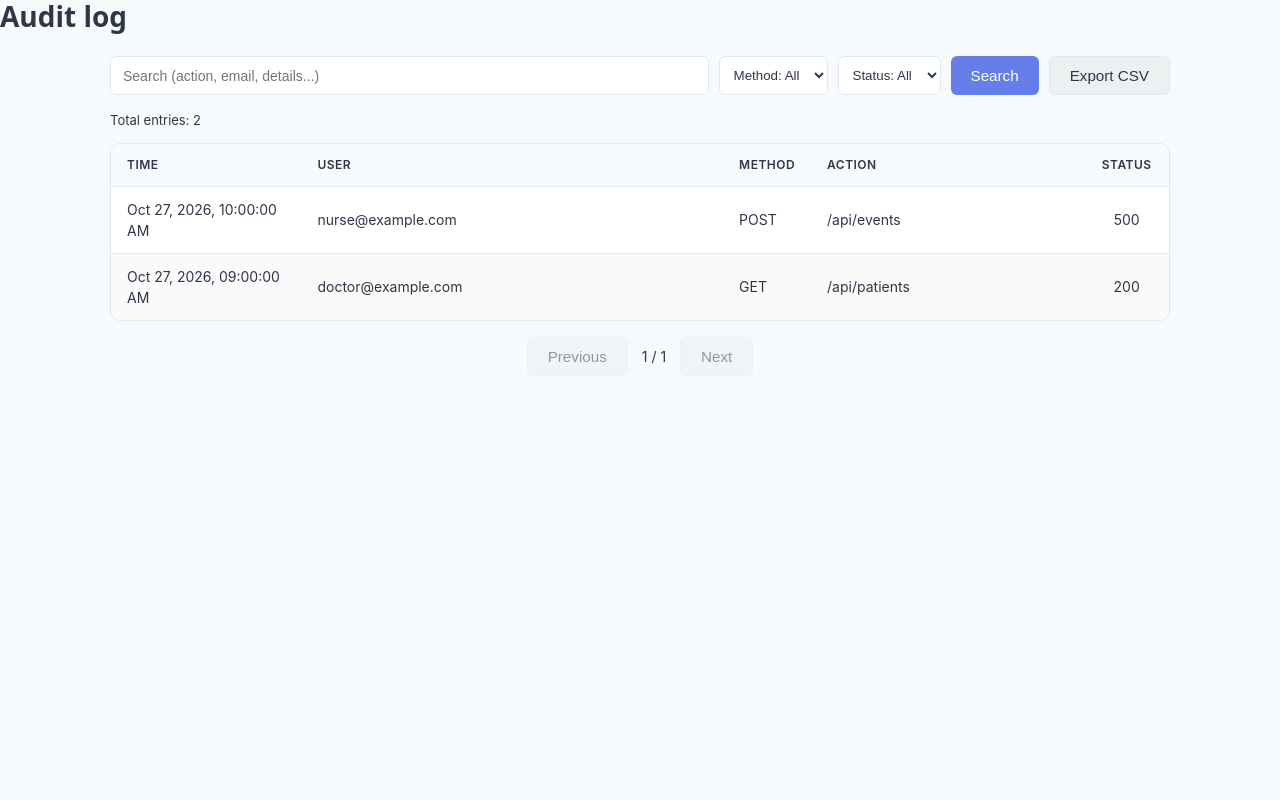
ActivityLogPage › detail modal closes via its close button
Check: the text "/api/patients" is shown, box [811,253,1084,320]
Click the text "doctor@example.com".
click(512, 286)  # box [301,253,723,320]
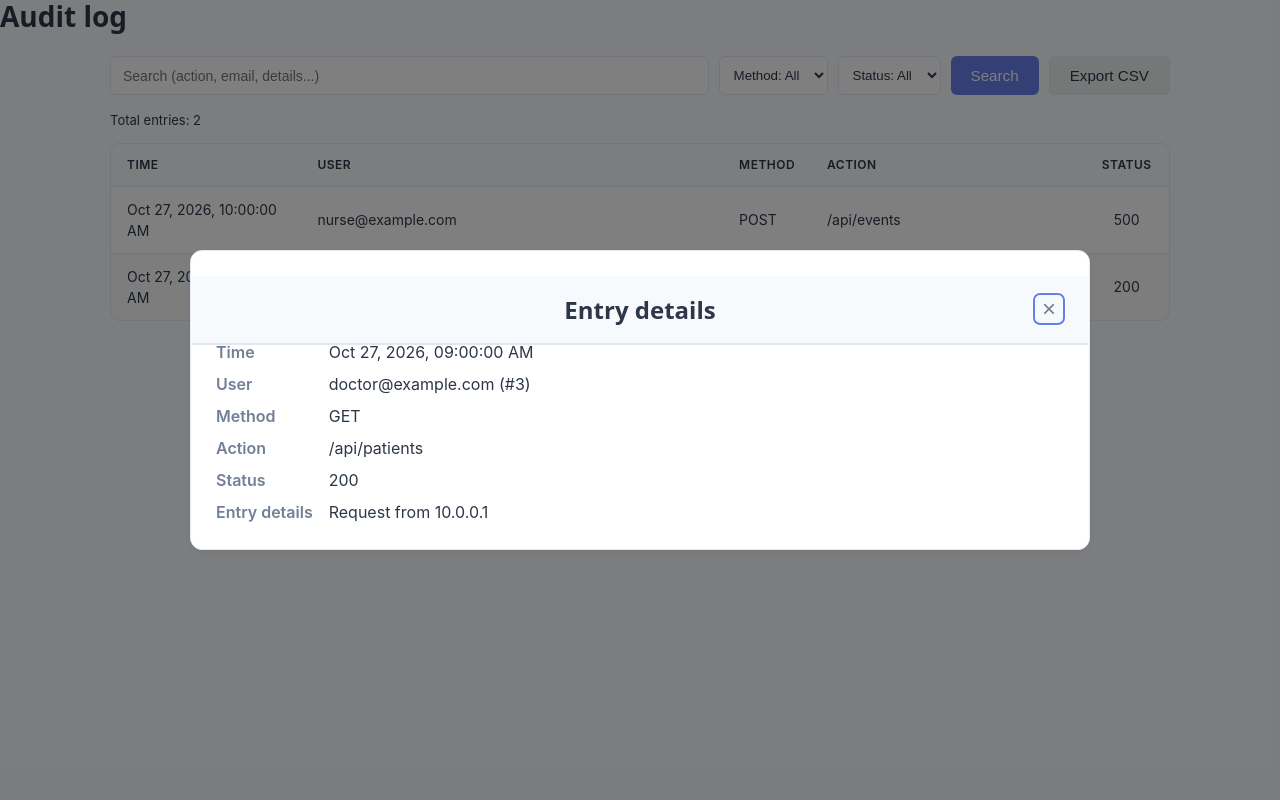
Check: the dialog is shown, box [190,250,1090,550]
Click the button named "close".
click(1049, 309)  # box [1034,294,1064,324]
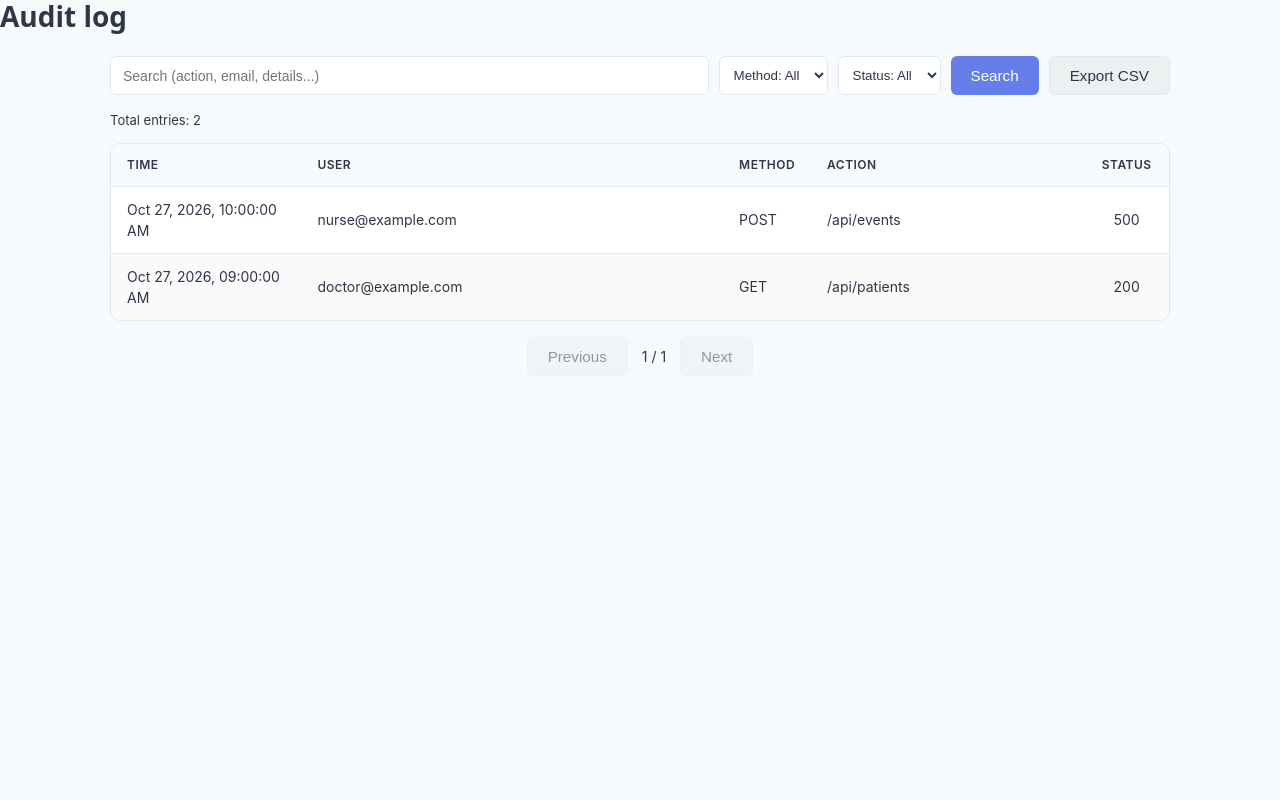
Check: the dialog is gone
